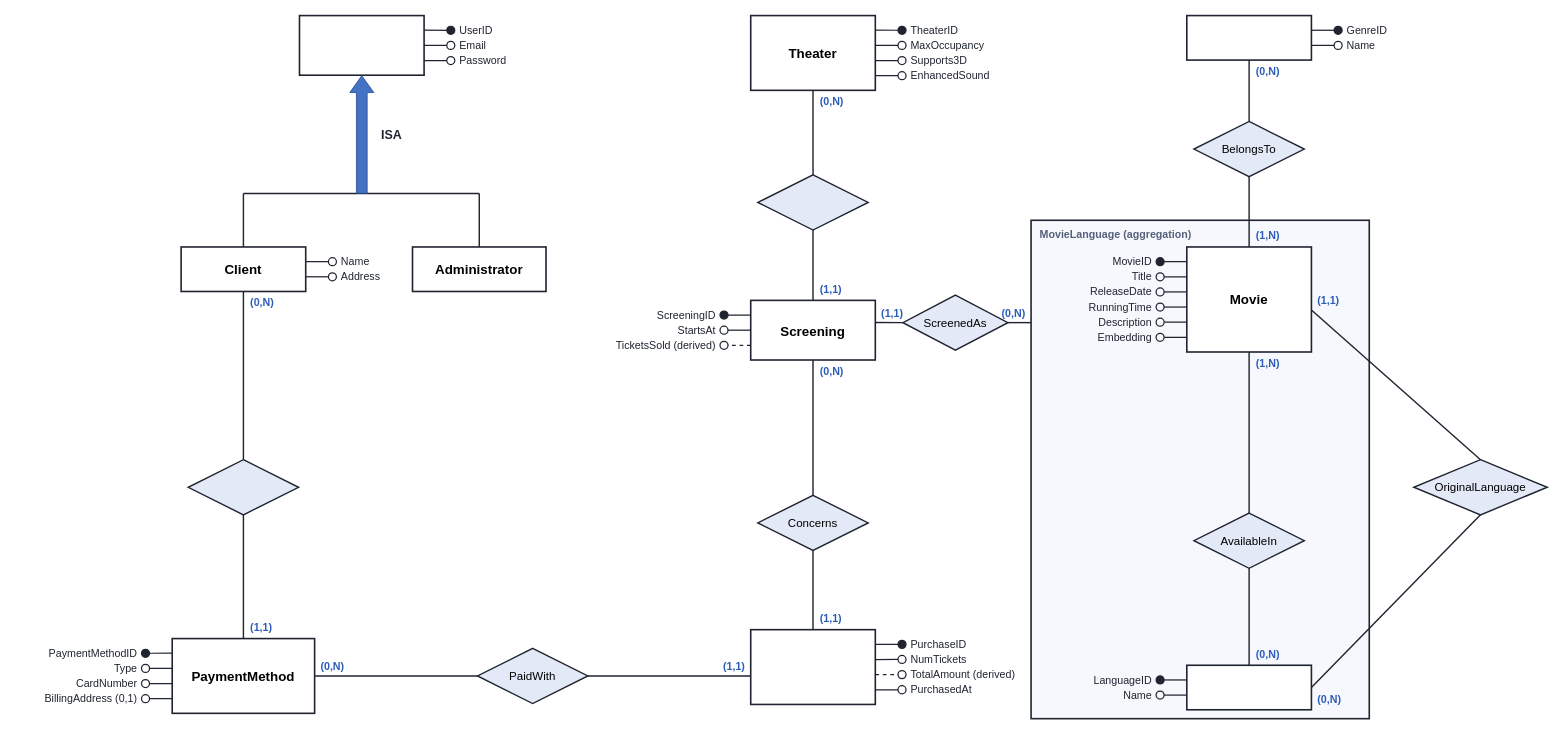
Some shapes in this 1563 by 735 pixel diagram are drawn without their labels. Each missing label, with the centre of its shape:
Genre: (1249,37)
HeldIn: (812,202)
Language: (1249,687)
Owns: (243,487)
Purchase: (812,666)
User: (361,45)
